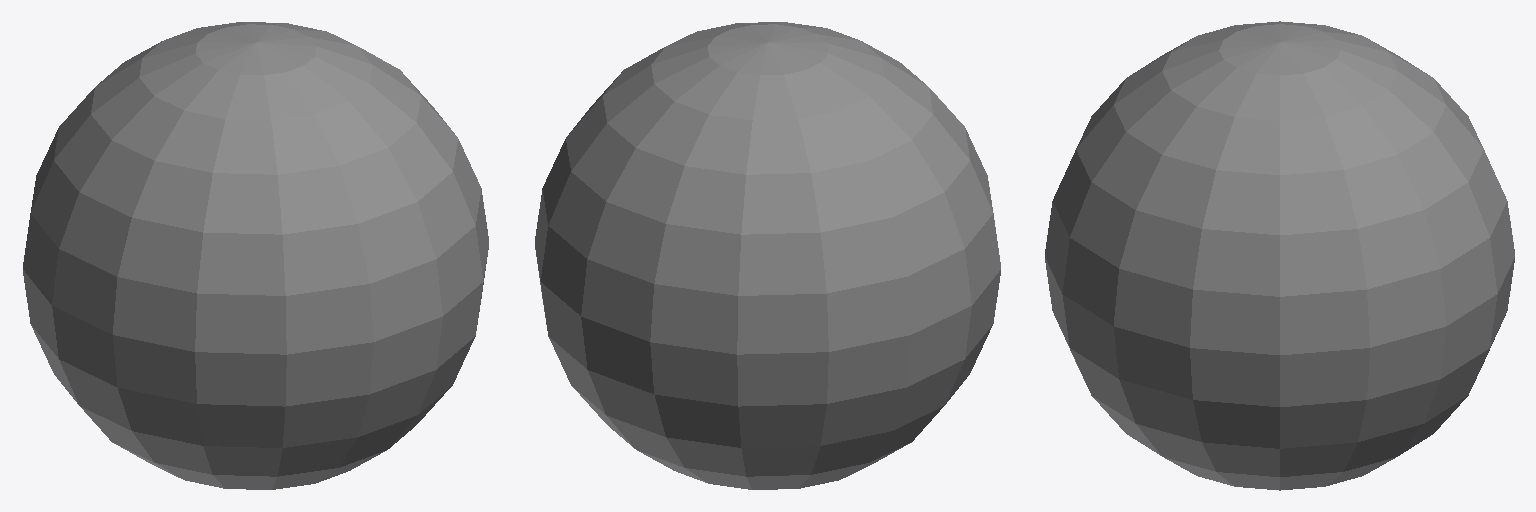
The model's file is canica.obj.
3 renders of one model, left to right at view 1: azimuth 30°, elevation 25°; view 2: azimuth 150°, elevation 25°; view 3: azimuth 270°, elevation 25°, orthographic.
Visible parts, largest first — view 1: SketchUp; view 2: SketchUp; view 3: SketchUp.
Part boxes in pixels (left/top/right/bottom): SketchUp: left=23, top=22, right=488, bottom=489; SketchUp: left=535, top=22, right=1000, bottom=489; SketchUp: left=1045, top=21, right=1514, bottom=490.
Bounding box in the file's own units: 14.04 × 14.04 × 14.04.